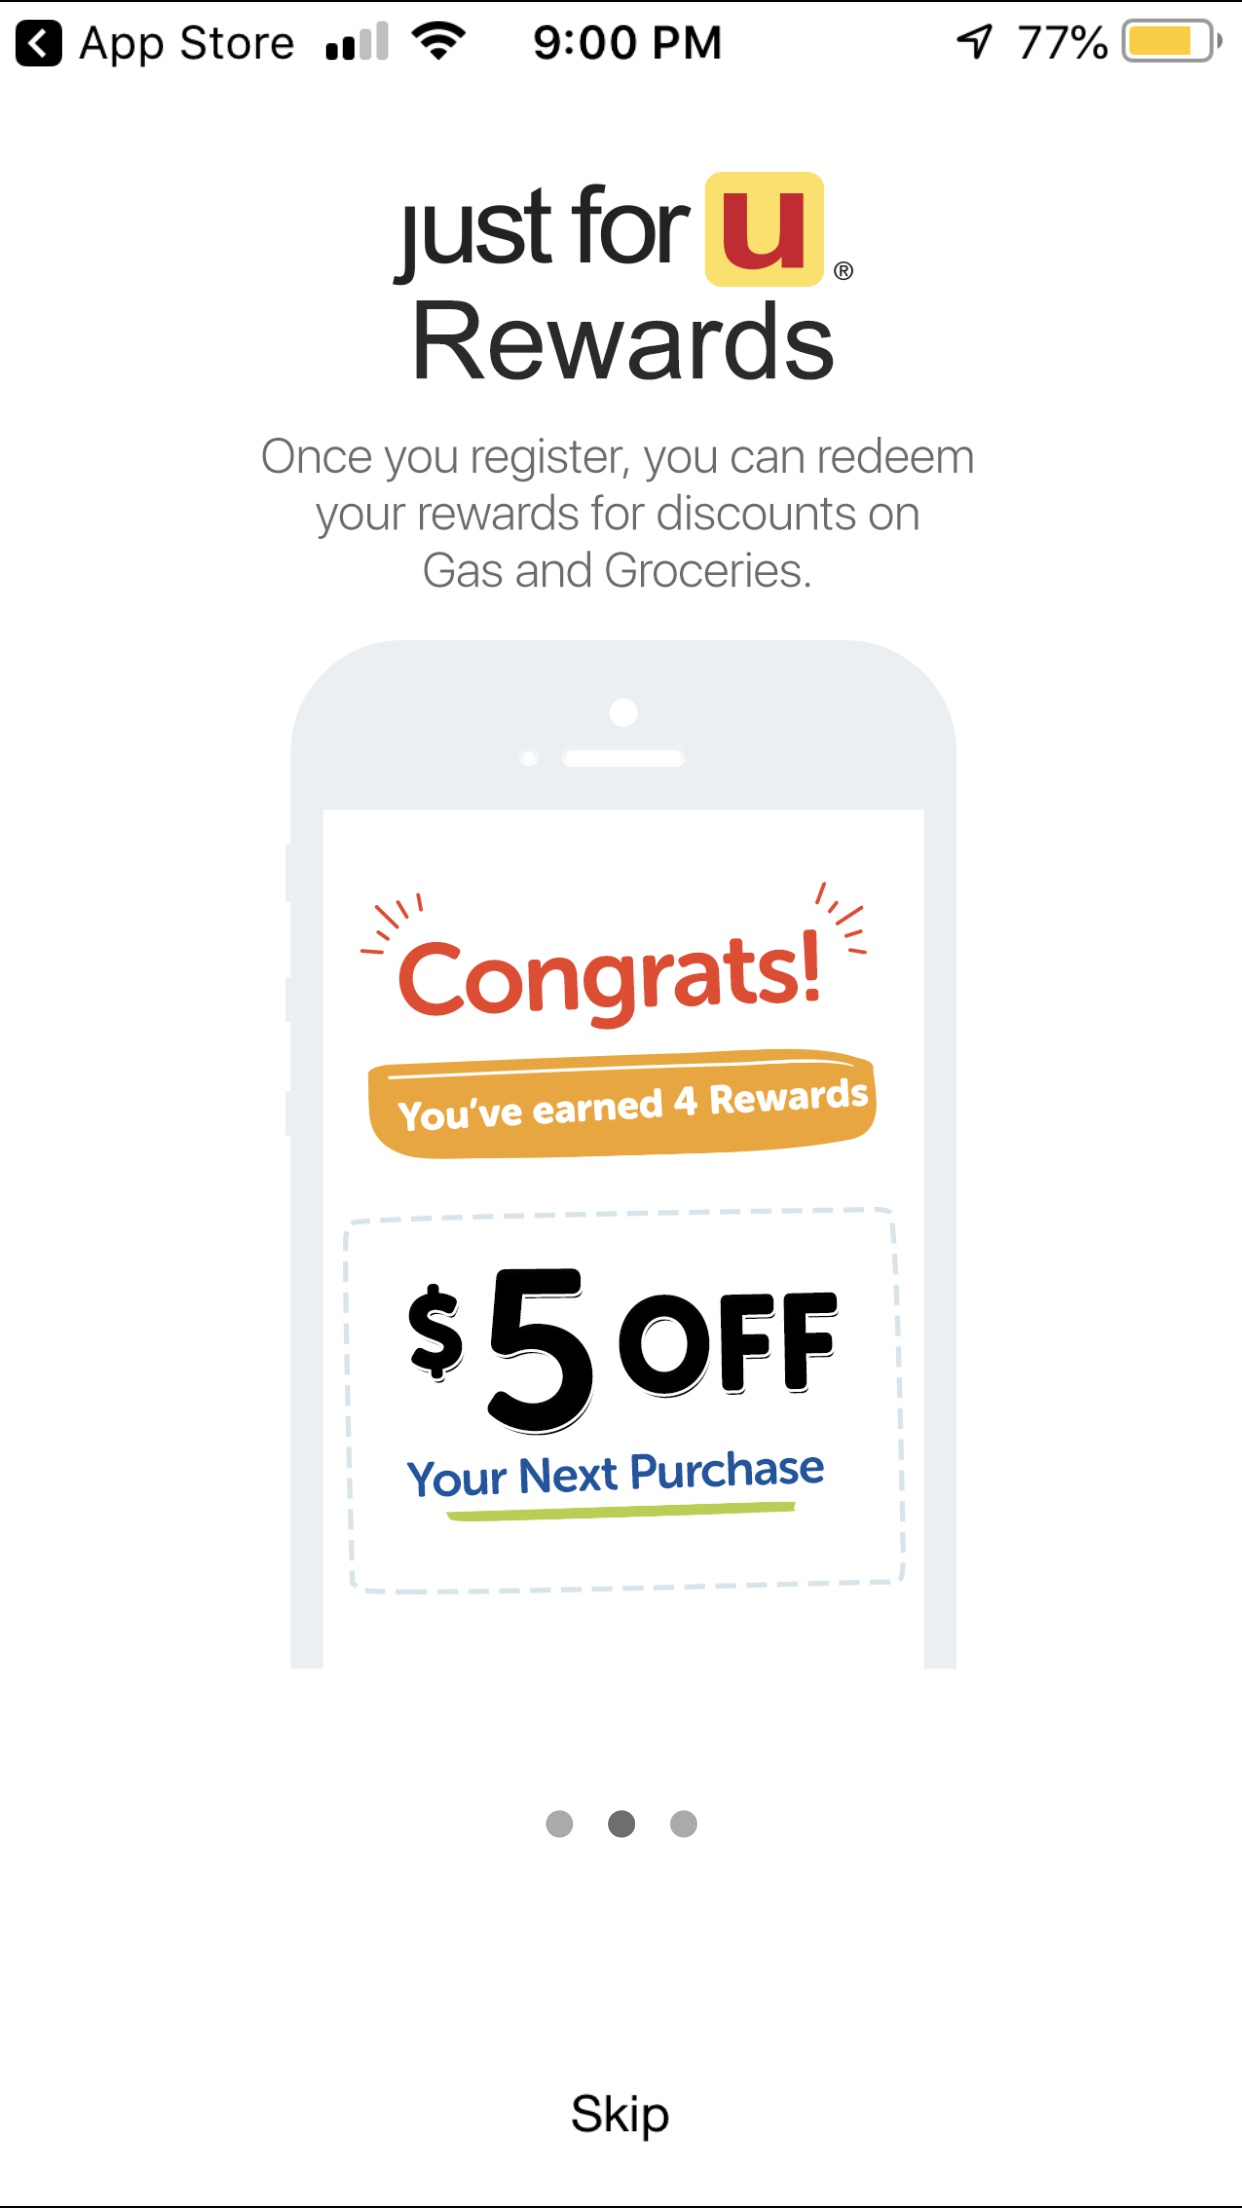Image: (285, 638, 958, 1670), (391, 171, 855, 382)
PageIndicator: (544, 1809, 699, 1839)
Text: (262, 437, 975, 590), (572, 2093, 670, 2143)
UpperTaskBar: (2, 2, 1242, 70)
